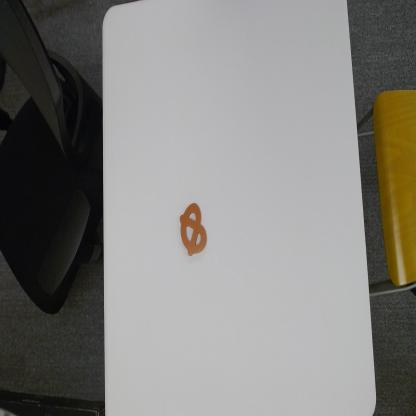Pretzel: (177, 198, 210, 259)
